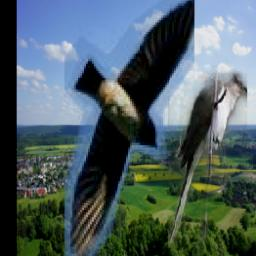Cuckoo: (169, 66, 248, 249)
Swallow: (65, 0, 195, 256)
